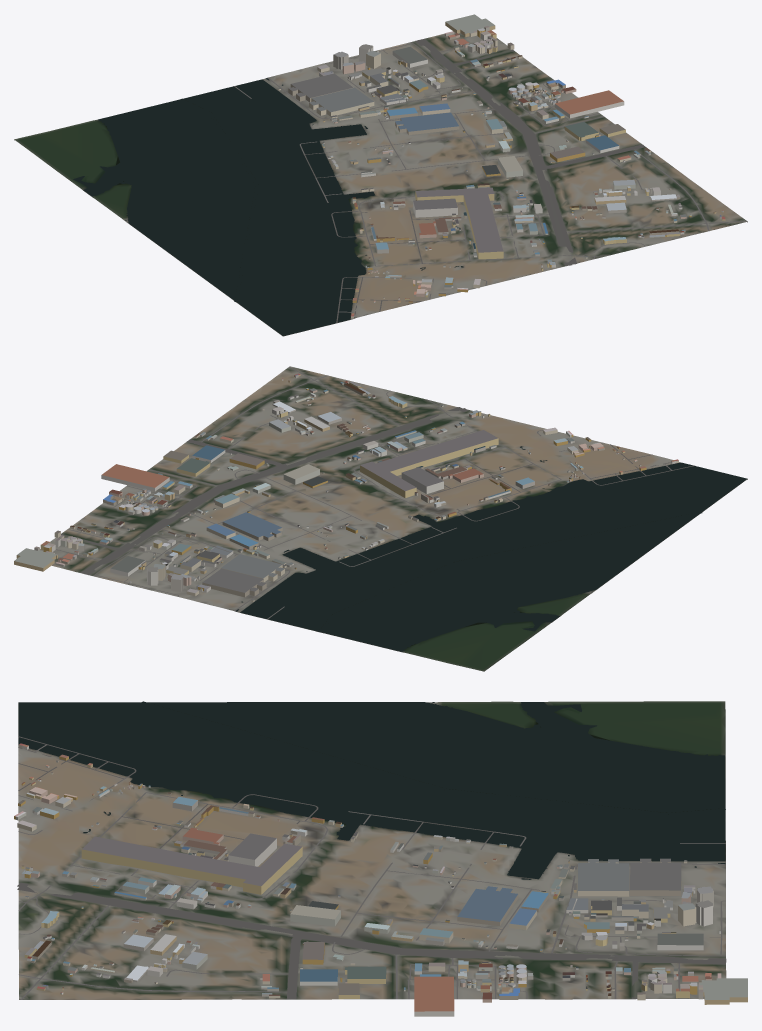
The picture shows the model from 3 angles, top to bottom: view 1: azimuth 30°, elevation 25°; view 2: azimuth 150°, elevation 25°; view 3: azimuth 270°, elevation 25°; orthographic projection. The views are drawn at different scales.
Visible parts, largest first — view 1: ground, water, buildings, roads; view 2: ground, water, buildings, roads; view 3: ground, water, buildings, roads.
Boxes of the visible parts, left/top/right/bottom form: ground: left=14, top=31, right=747, bottom=336; water: left=73, top=78, right=463, bottom=335; buildings: left=277, top=14, right=725, bottom=318; roads: left=234, top=39, right=746, bottom=322; ground: left=40, top=366, right=747, bottom=671; water: left=235, top=446, right=746, bottom=651; buildings: left=14, top=373, right=678, bottom=601; roads: left=55, top=366, right=694, bottom=619; ground: left=18, top=701, right=726, bottom=999; water: left=18, top=701, right=725, bottom=879; buildings: left=14, top=743, right=747, bottom=1016; roads: left=17, top=736, right=726, bottom=999.
Bounding box in the file's own units: 1484 × 45.41 × 1453.
